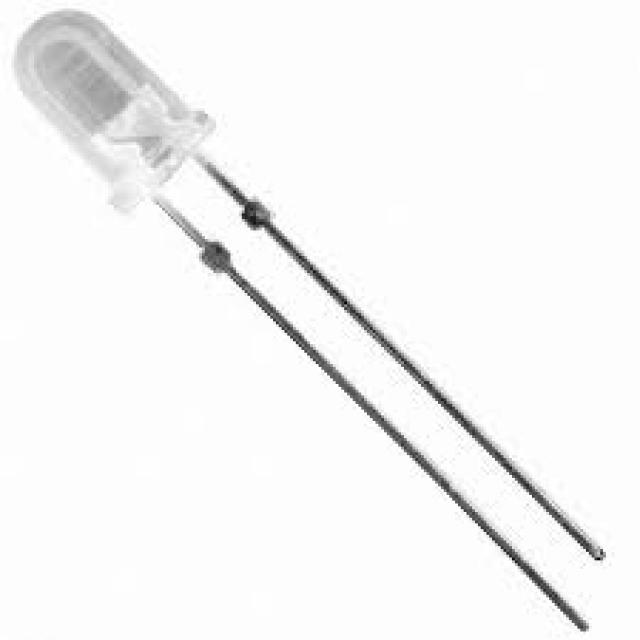Led: (15, 11, 604, 559)
